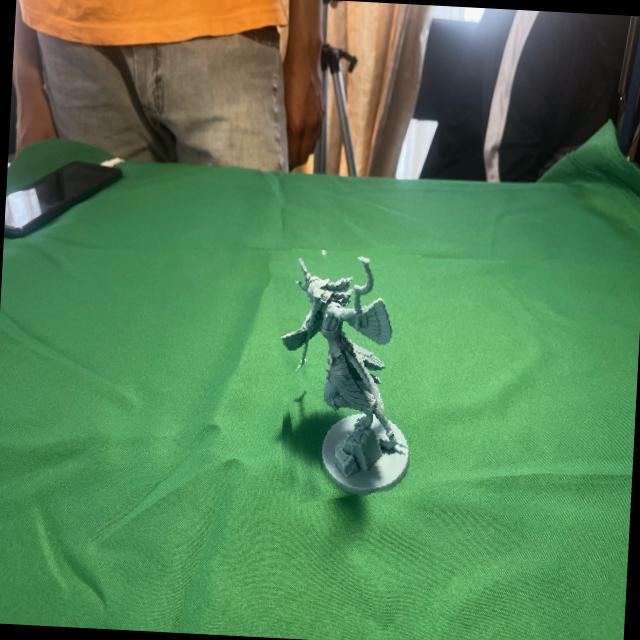isis: (268, 242, 432, 503)
